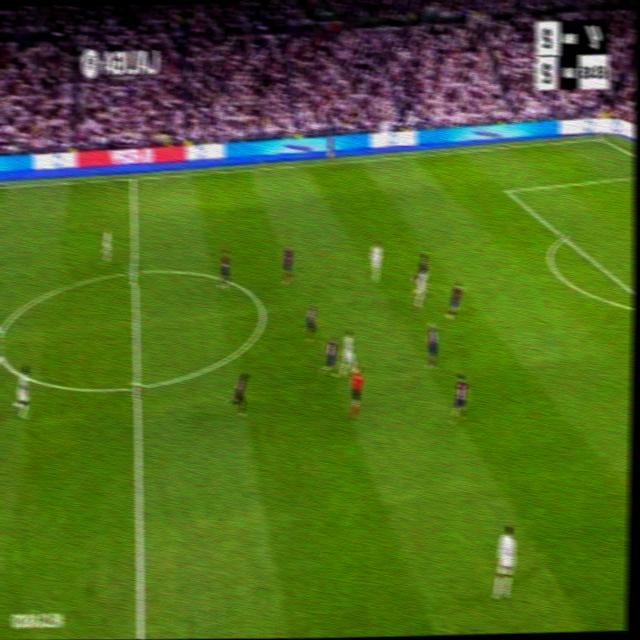bigarea_top_inner: (504, 183, 512, 197)
corner: (595, 132, 605, 142)
halfcircle_bottom: (128, 369, 145, 401)
halfcircle_top: (126, 258, 142, 284)
midline_top_intersection: (127, 169, 138, 187)
top_arc_area_intersection: (559, 227, 568, 243)
